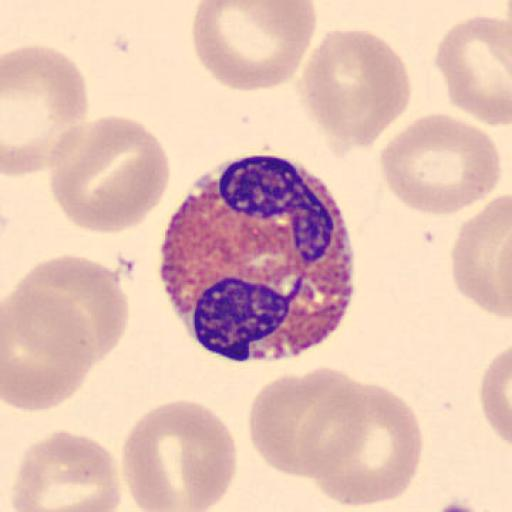RBC: (46, 114, 172, 236), (306, 378, 424, 508), (246, 367, 373, 479), (300, 26, 413, 150), (120, 397, 238, 511), (378, 112, 502, 218), (12, 252, 130, 362), (2, 282, 96, 412), (190, 1, 318, 92), (2, 44, 90, 176), (246, 370, 334, 476), (11, 429, 123, 512), (286, 370, 370, 476), (434, 13, 512, 127), (451, 192, 512, 320), (479, 344, 512, 449), (428, 496, 496, 512)
WBC: (159, 155, 356, 363)
